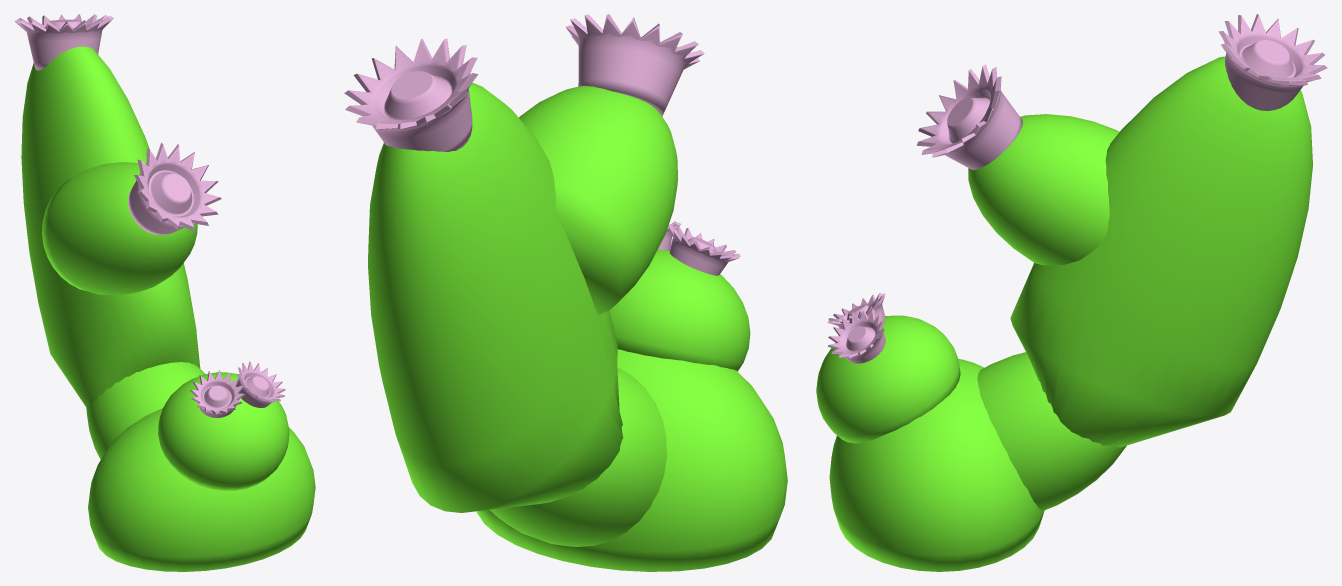
Rendered from Cactus2.fbx.
The picture shows the model from 3 angles, left to right: view 1: azimuth 30°, elevation 25°; view 2: azimuth 150°, elevation 25°; view 3: azimuth 270°, elevation 25°; orthographic projection. The views are drawn at different scales.
Visible parts, largest first — view 1: Sphere.004, Cylinder.007, Cylinder.008, Cylinder.002, Cylinder.006; view 2: Sphere.004, Cylinder.008, Cylinder.007, Cylinder.002; view 3: Sphere.004, Cylinder.008, Cylinder.007, Cylinder.006, Cylinder.002.
Boxes of the visible parts, x1,y1,x2,y2 form: Sphere.004: [21, 46, 315, 571]; Cylinder.007: [128, 142, 221, 234]; Cylinder.008: [14, 14, 113, 70]; Cylinder.002: [190, 370, 245, 417]; Cylinder.006: [236, 361, 285, 407]; Sphere.004: [368, 83, 787, 571]; Cylinder.008: [344, 38, 478, 151]; Cylinder.007: [565, 14, 704, 116]; Cylinder.002: [668, 224, 740, 275]; Sphere.004: [816, 56, 1312, 571]; Cylinder.008: [1218, 14, 1327, 110]; Cylinder.007: [917, 64, 1022, 169]; Cylinder.006: [828, 309, 885, 363]; Cylinder.002: [827, 293, 885, 329].
Bounding box in the file's own units: 383 × 746 × 705.
